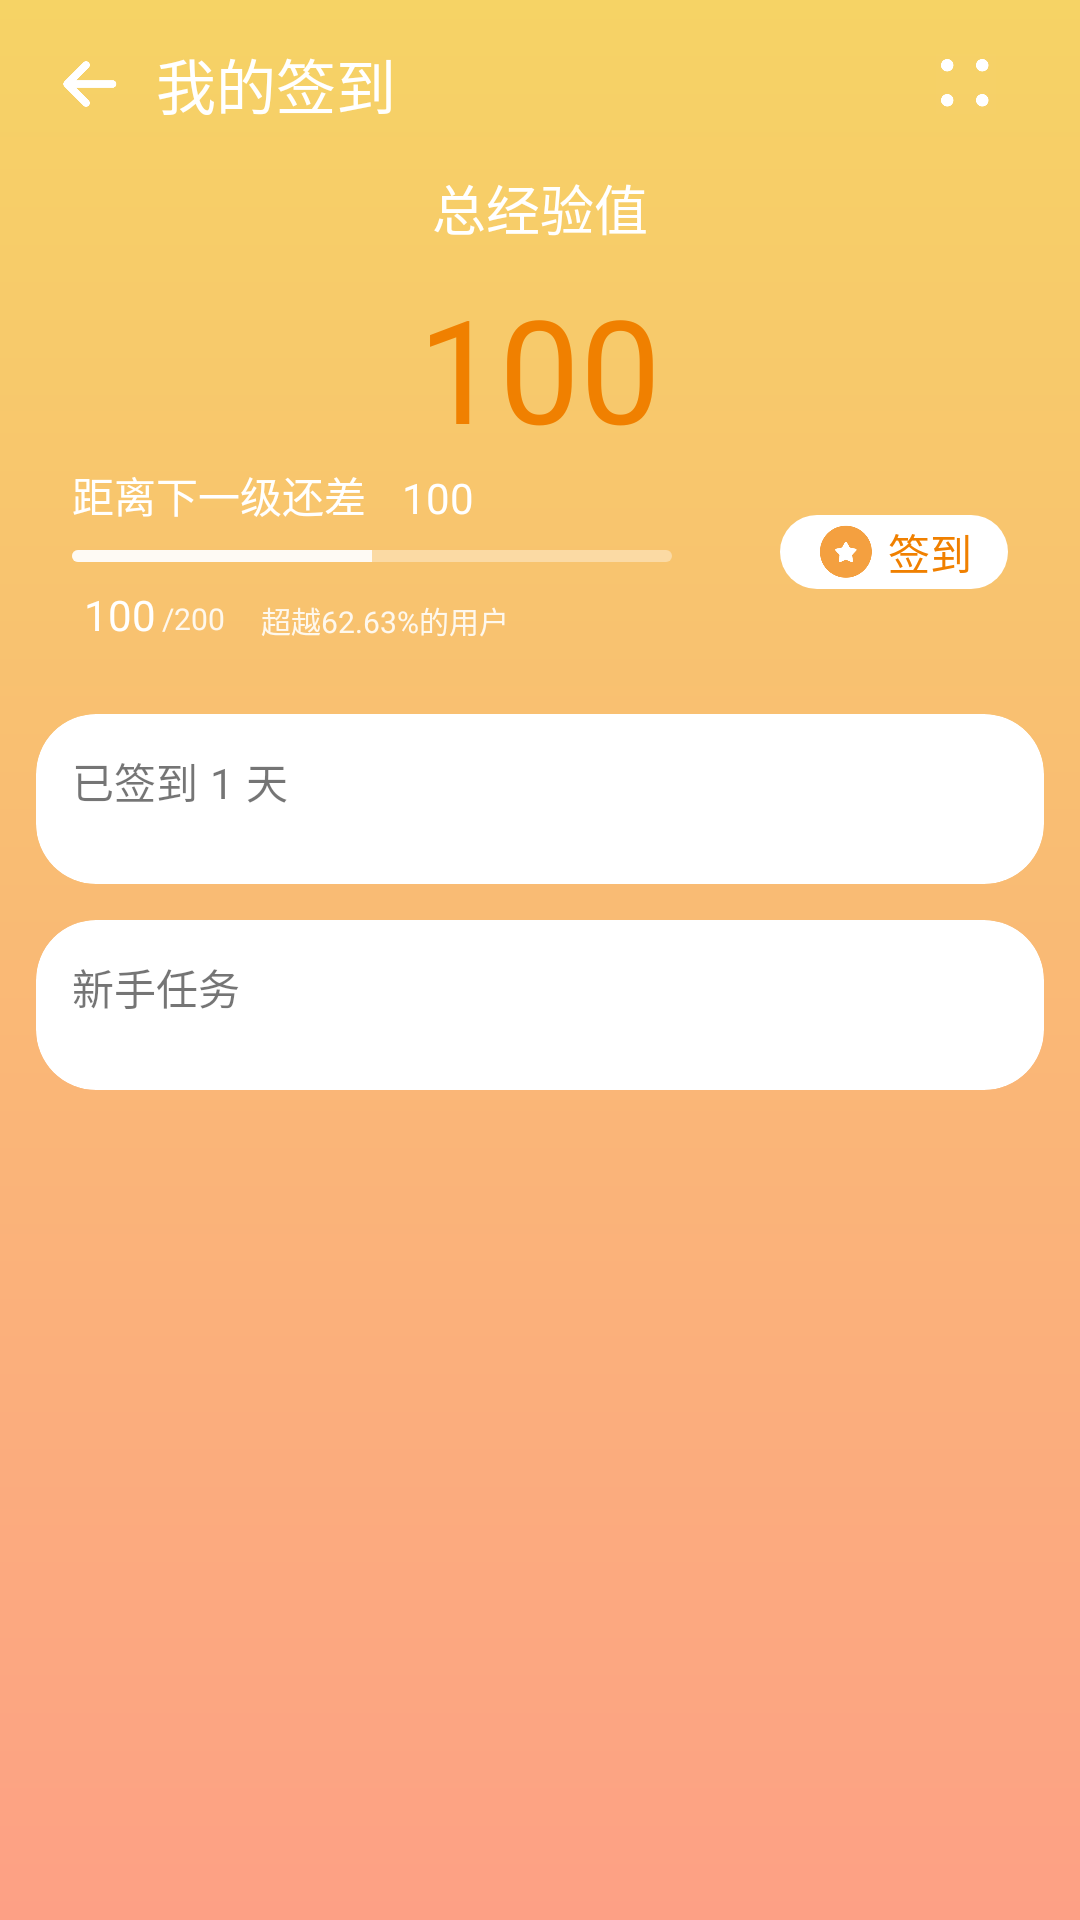

Icons on this 1080px×1920px Android screen, each with its box as bbox=[x1, y1, x2, y2]:
arrow left: bbox=[63, 61, 116, 107]
more: bbox=[941, 59, 989, 107]
